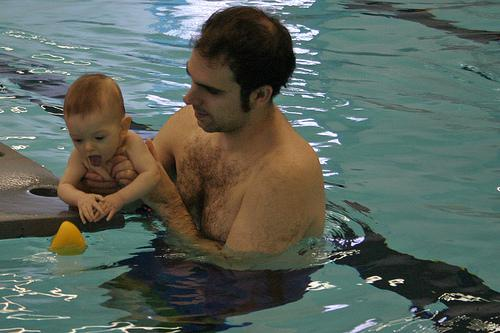human: (145, 5, 327, 260), (54, 71, 162, 224)
